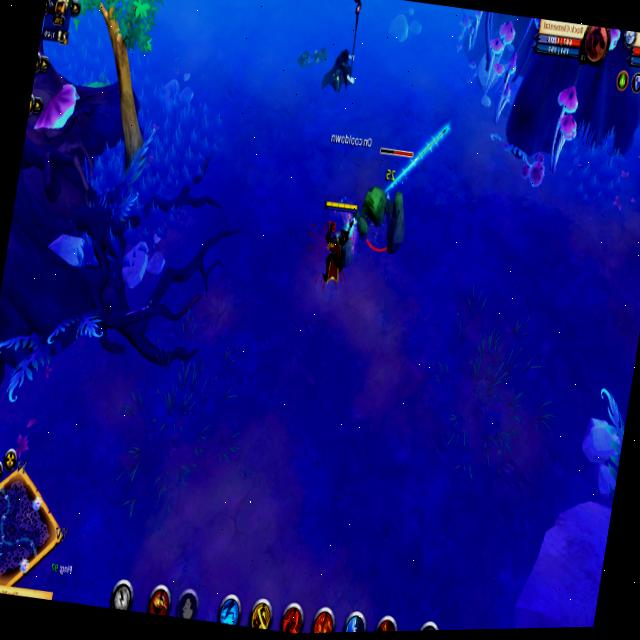ore: (353, 137, 422, 262), (321, 0, 371, 104)
red: (309, 194, 364, 295)
wisp caged: (21, 0, 181, 185)
